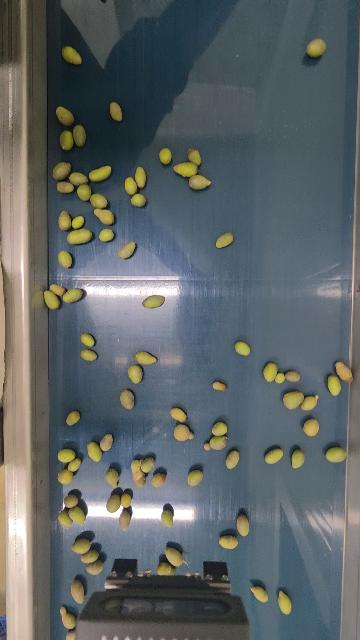Baby Potato: (305, 36, 330, 58), (61, 44, 83, 66), (65, 228, 93, 245), (130, 459, 146, 488), (282, 390, 305, 410), (334, 360, 354, 383), (173, 161, 200, 178), (187, 173, 212, 191), (165, 545, 185, 567), (88, 164, 112, 182), (51, 161, 72, 181), (93, 207, 115, 226), (277, 589, 293, 615), (59, 606, 76, 630), (69, 579, 85, 604), (55, 106, 75, 126), (325, 446, 347, 464), (142, 293, 166, 309), (117, 240, 136, 260), (264, 446, 284, 465), (173, 423, 193, 442), (86, 441, 103, 463), (72, 124, 87, 148), (68, 505, 86, 525), (133, 165, 148, 189), (204, 436, 228, 451), (71, 536, 91, 554), (119, 388, 136, 409), (62, 287, 83, 304), (43, 289, 60, 310), (263, 361, 279, 383), (327, 374, 342, 397), (134, 350, 157, 365), (250, 584, 269, 602), (215, 231, 234, 249), (236, 513, 250, 537), (59, 129, 74, 151), (303, 418, 320, 437), (225, 449, 240, 470), (57, 210, 72, 231), (301, 394, 319, 411), (90, 192, 108, 209), (57, 447, 76, 463), (290, 449, 305, 469), (128, 364, 143, 384), (109, 101, 123, 122), (169, 406, 187, 422), (85, 559, 103, 575), (57, 510, 72, 529), (57, 250, 72, 269), (187, 147, 202, 166), (69, 171, 88, 186), (219, 535, 239, 549), (106, 494, 120, 514), (80, 549, 100, 563), (57, 468, 73, 485), (234, 340, 251, 356), (187, 469, 203, 486), (158, 147, 173, 165), (55, 180, 74, 194), (105, 468, 119, 487), (99, 433, 113, 452), (119, 509, 131, 531), (80, 332, 96, 348), (211, 421, 228, 436), (77, 183, 91, 201), (124, 176, 137, 195), (151, 471, 166, 487), (65, 410, 80, 426), (98, 227, 114, 242), (161, 508, 173, 528), (141, 456, 155, 473), (80, 348, 98, 361), (64, 493, 79, 508), (71, 214, 85, 230), (130, 193, 146, 207), (285, 369, 301, 383), (49, 283, 65, 297), (67, 457, 81, 472), (120, 492, 132, 508), (212, 380, 227, 392), (275, 371, 286, 384), (64, 630, 76, 640)
